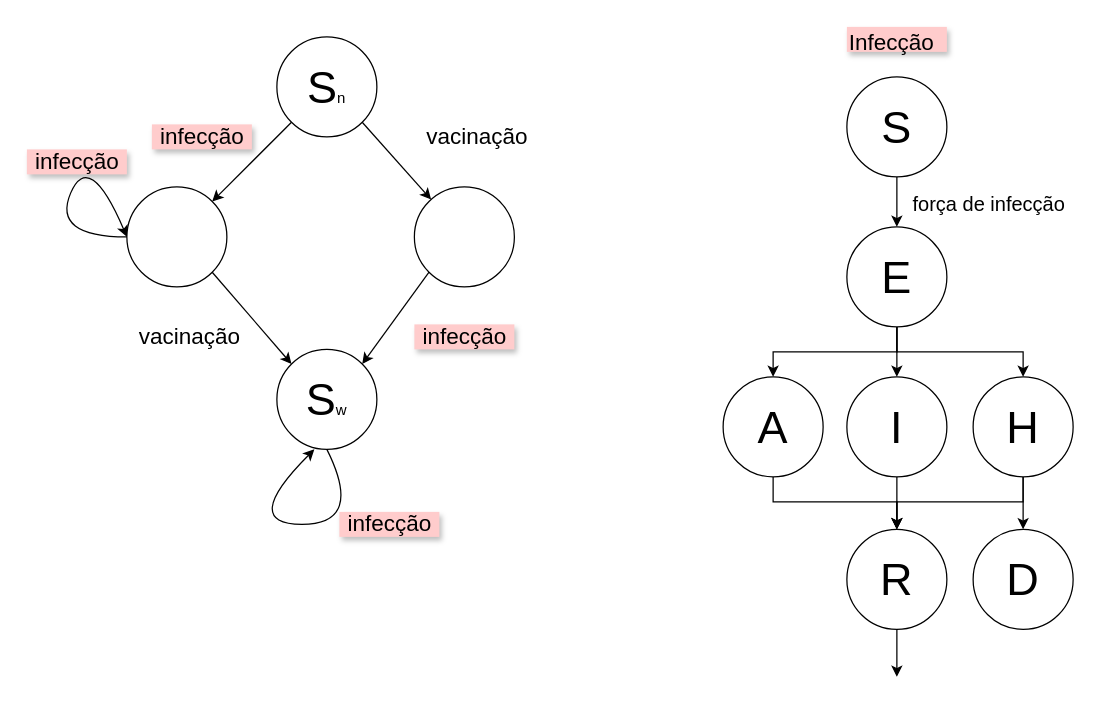
Some shapes in this 1106 by 709 pixel diagram are drawn without their labels. Here are the shapes that lost their labels. From the top down, the centre of each, then its label:
At point (176, 236): "S u".
At point (463, 236): "S v".
